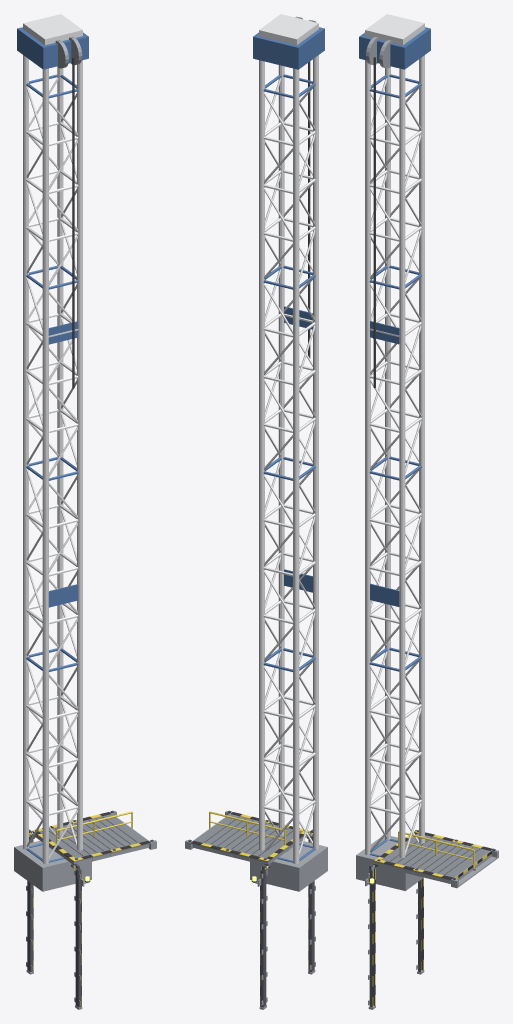
File: stage_gate.glb
3 views of the same model, side by side, from view 1: azimuth 30°, elevation 25°; view 2: azimuth 150°, elevation 25°; view 3: azimuth 330°, elevation 25° (orthographic).
Parts seen in each view (by area): view 1: SG_Tower, SG_LiftDeck, SG_LiftFrame, SG_LiftHandrail; view 2: SG_Tower, SG_LiftDeck, SG_LiftFrame, SG_LiftHandrail; view 3: SG_Tower, SG_LiftDeck, SG_LiftFrame, SG_LiftHandrail.
Boxes of the visible parts, x1,y1,x2,y2 form: SG_Tower: (14,14,91,891); SG_LiftDeck: (31,810,156,867); SG_LiftFrame: (26,837,90,1009); SG_LiftHandrail: (56,811,132,843); SG_Tower: (250,14,327,891); SG_LiftDeck: (185,810,310,867); SG_LiftFrame: (251,837,315,1009); SG_LiftHandrail: (209,811,285,845); SG_Tower: (356,14,430,890); SG_LiftDeck: (373,830,498,888); SG_LiftFrame: (365,868,424,1009); SG_LiftHandrail: (398,831,475,870).
Bounding box in the file's own units: 5.66 × 48.4 × 5.48.
